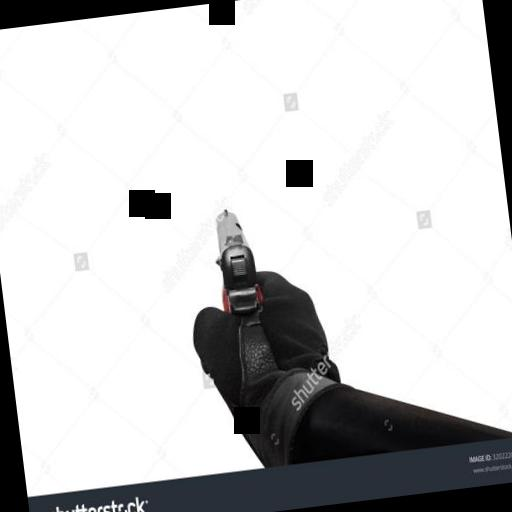Handgun: (206, 201, 266, 322)
